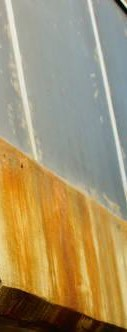Corrosion: (1, 135, 127, 326)
